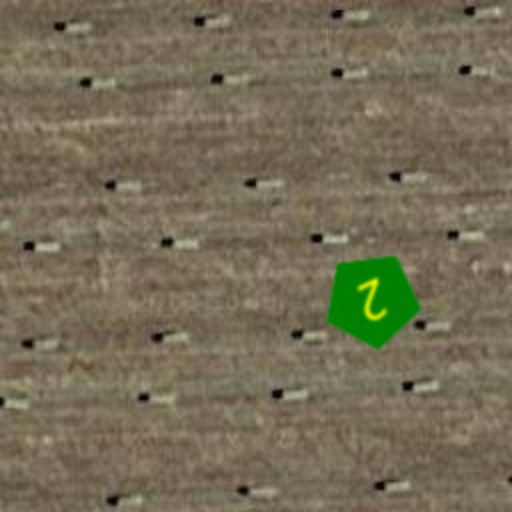pentagon: (304, 232, 440, 368)
